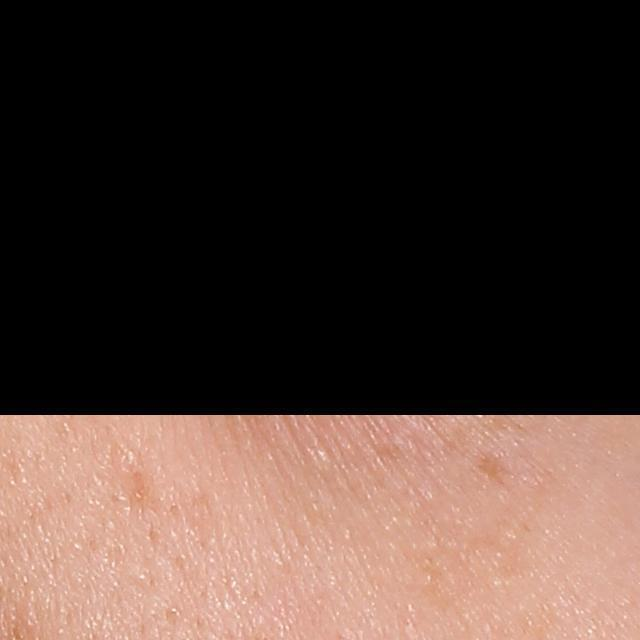melasma: (121, 457, 167, 521), (473, 447, 512, 486)
